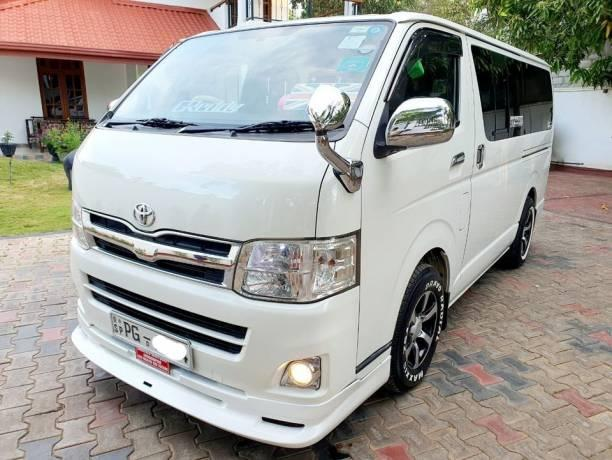van: (70, 11, 555, 448)
